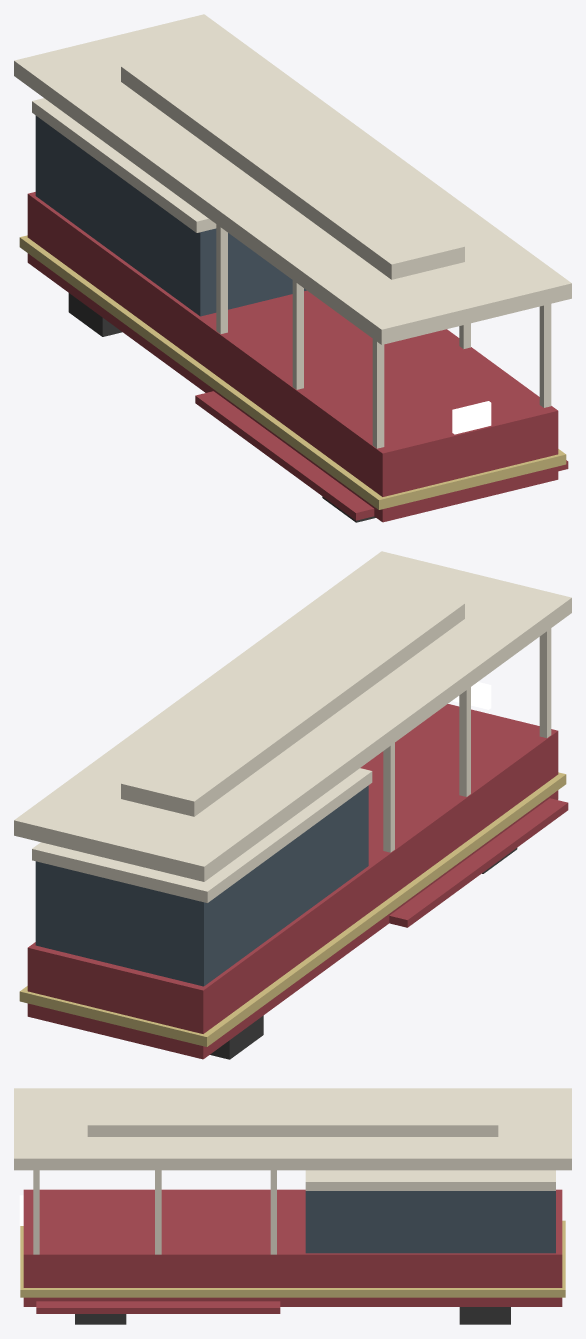
File: cable-car.glb
The picture shows the model from 3 angles, top to bottom: view 1: azimuth 30°, elevation 25°; view 2: azimuth 150°, elevation 25°; view 3: azimuth 270°, elevation 25°; orthographic projection. The views are drawn at different scales.
Size of the model in its own units: 2.9 by 3.15 by 8.7.
